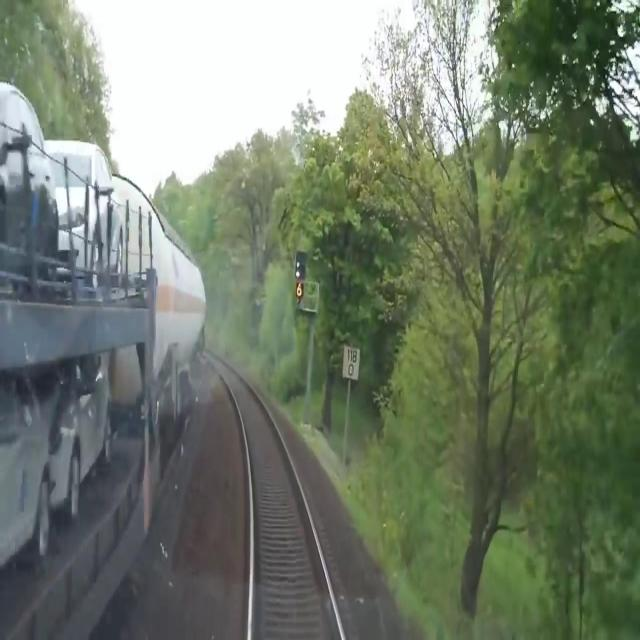rail-track: (205, 349, 341, 639)
